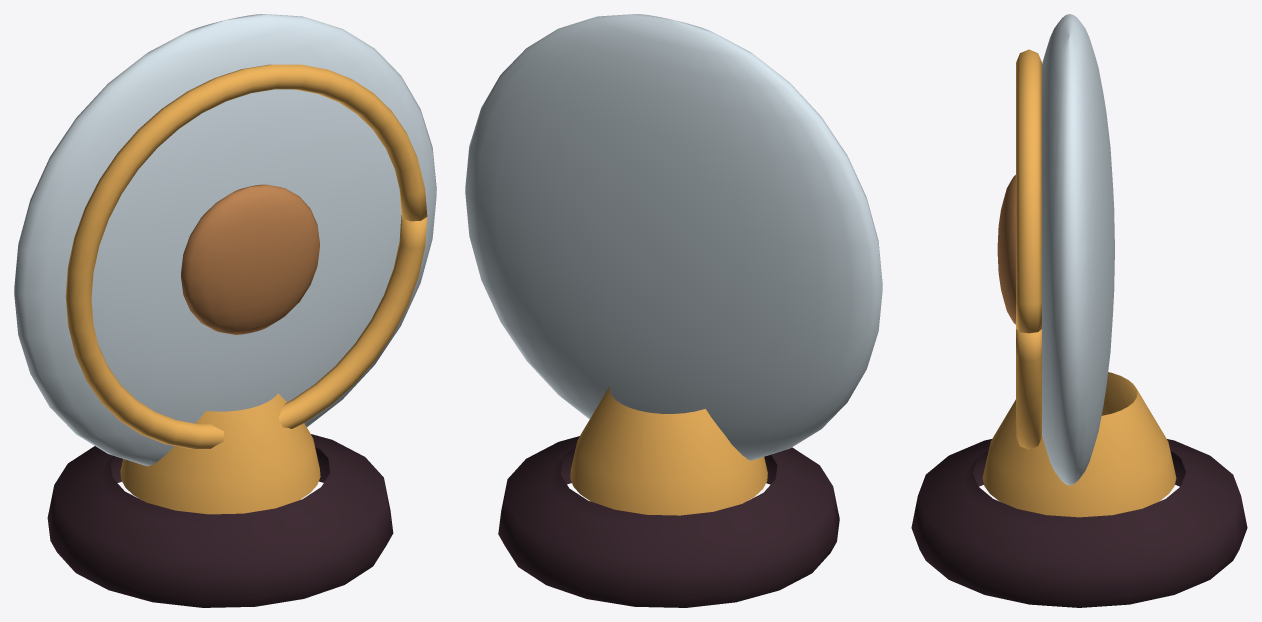
File: cup-shield.glb
The picture shows the model from 3 angles, left to right: view 1: azimuth 30°, elevation 25°; view 2: azimuth 150°, elevation 25°; view 3: azimuth 270°, elevation 25°; orthographic projection. The views are drawn at different scales.
Visible parts, largest first — view 1: cup-shield · Polished silver, cup-shield · Brushed brass, cup-shield · Black lacquer, cup-shield · Cast bronze; view 2: cup-shield · Polished silver, cup-shield · Black lacquer, cup-shield · Brushed brass; view 3: cup-shield · Black lacquer, cup-shield · Polished silver, cup-shield · Brushed brass, cup-shield · Cast bronze.
Boxes of the visible parts, left/top/right/bottom form: cup-shield · Polished silver: left=14, top=14, right=436, bottom=466; cup-shield · Brushed brass: left=65, top=64, right=427, bottom=514; cup-shield · Black lacquer: left=47, top=434, right=393, bottom=607; cup-shield · Cast bronze: left=181, top=184, right=319, bottom=334; cup-shield · Polished silver: left=465, top=14, right=882, bottom=460; cup-shield · Black lacquer: left=498, top=436, right=839, bottom=607; cup-shield · Brushed brass: left=570, top=386, right=767, bottom=515; cup-shield · Black lacquer: left=911, top=439, right=1247, bottom=607; cup-shield · Polished silver: left=1042, top=14, right=1114, bottom=485; cup-shield · Brushed brass: left=982, top=49, right=1176, bottom=517; cup-shield · Cast bronze: left=997, top=175, right=1015, bottom=324.
Bounding box in the file's own units: 1.46 × 1.72 × 1.04.
